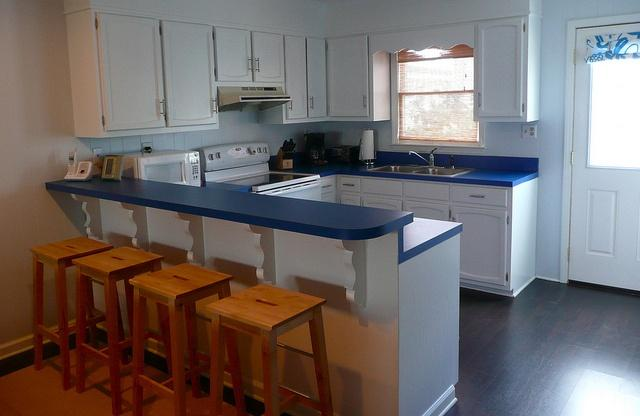Lemari: (93, 4, 218, 136), (280, 30, 370, 123), (474, 13, 527, 121), (210, 21, 284, 85)
